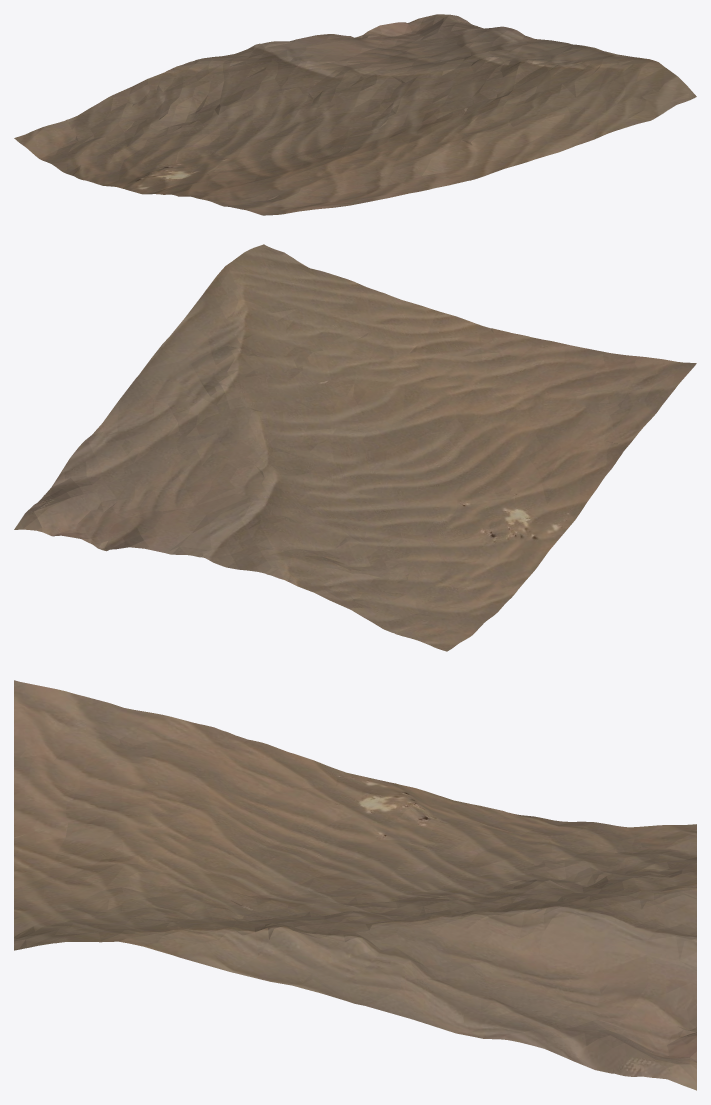
3 renders of one model, top to bottom at view 1: azimuth 30°, elevation 25°; view 2: azimuth 150°, elevation 25°; view 3: azimuth 270°, elevation 25°, orthographic. The views are drawn at different scales.
Size of the model in its own units: 1.04 by 0.294 by 1.04.
2 materials, 2 textured.
